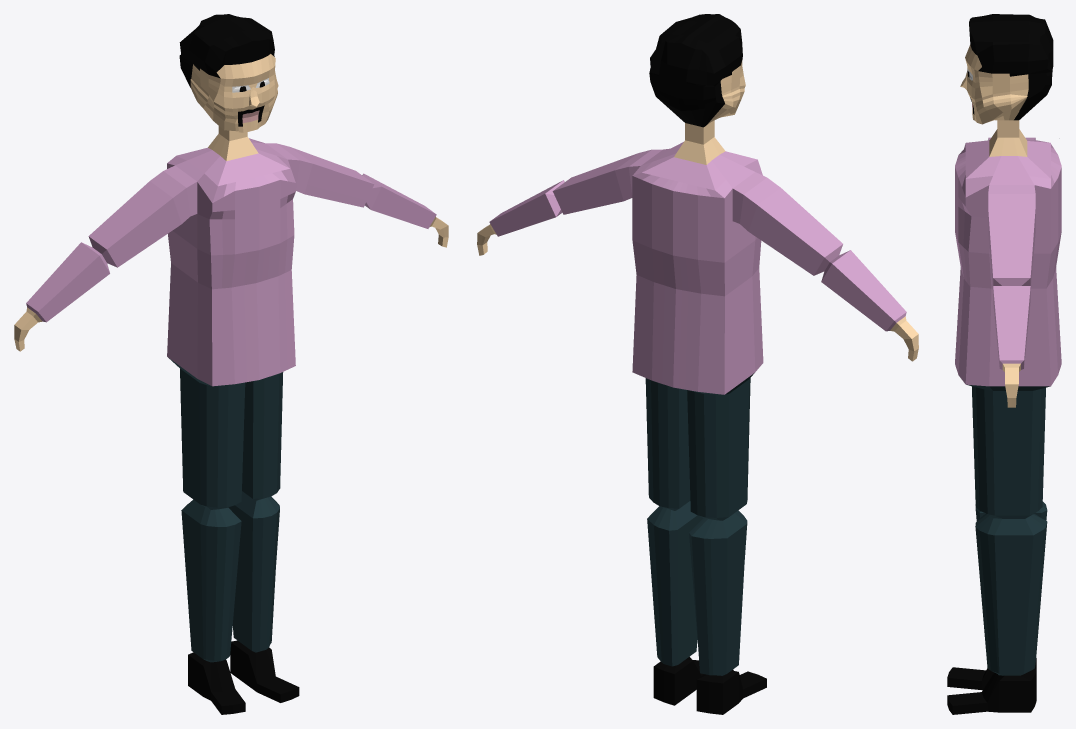
Rendered from vatanMUDUR.fbx.
3 renders of one model, left to right at view 1: azimuth 30°, elevation 25°; view 2: azimuth 150°, elevation 25°; view 3: azimuth 270°, elevation 25°, orthographic. The views are drawn at different scales.
Parts seen in each view (by area): view 1: tşört, kol, KOL, SAÇ, KOL.001, ayakkabı, Cube.002; view 2: tşört, kol, SAÇ, KOL, KOL.001, ayakkabı; view 3: kol, tşört, SAÇ, KOL.001, ayakkabı, Cube.002, el.001.
Part boxes in pixels (x1,y1,x2,y2): tşört: (167,138,295,386); kol: (168,357,283,662); KOL: (26,165,197,322); SAÇ: (179,14,278,161); KOL.001: (266,143,436,228); ayakkabı: (188,640,299,714); Cube.002: (190,79,277,131); tşört: (632,142,763,394); kol: (645,373,754,675); SAÇ: (649,14,745,164); KOL: (732,172,906,331); KOL.001: (489,149,662,236); ayakkabı: (653,656,766,714); kol: (966,384,1050,675); tşört: (955,140,1061,386); SAÇ: (960,14,1053,156); KOL.001: (988,185,1035,369); ayakkabı: (947,658,1036,714); Cube.002: (971,94,1027,124); el.001: (1002,363,1020,407).
Size of the model in its own units: 141 by 207 by 31.9.
